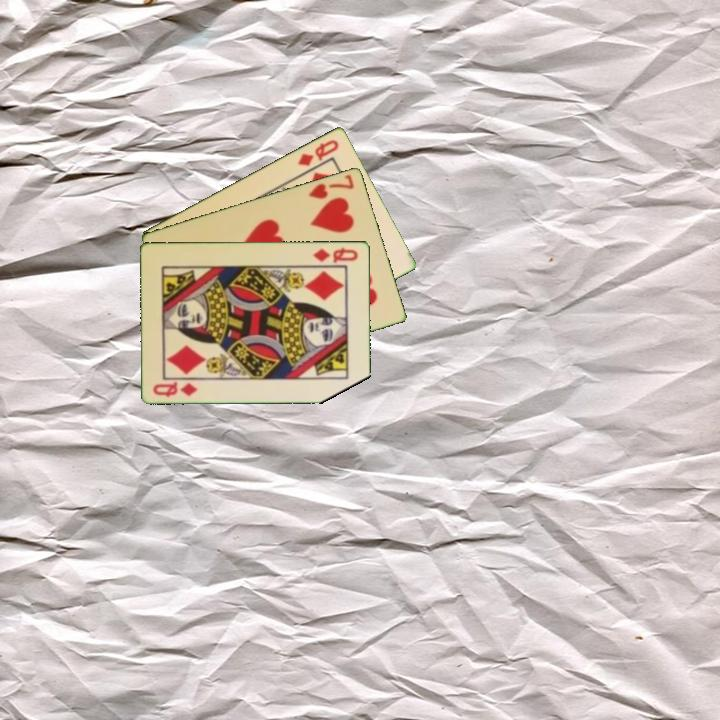7h: (305, 170, 357, 202)
Qd: (294, 136, 342, 169), (310, 243, 361, 265), (150, 378, 200, 399)
